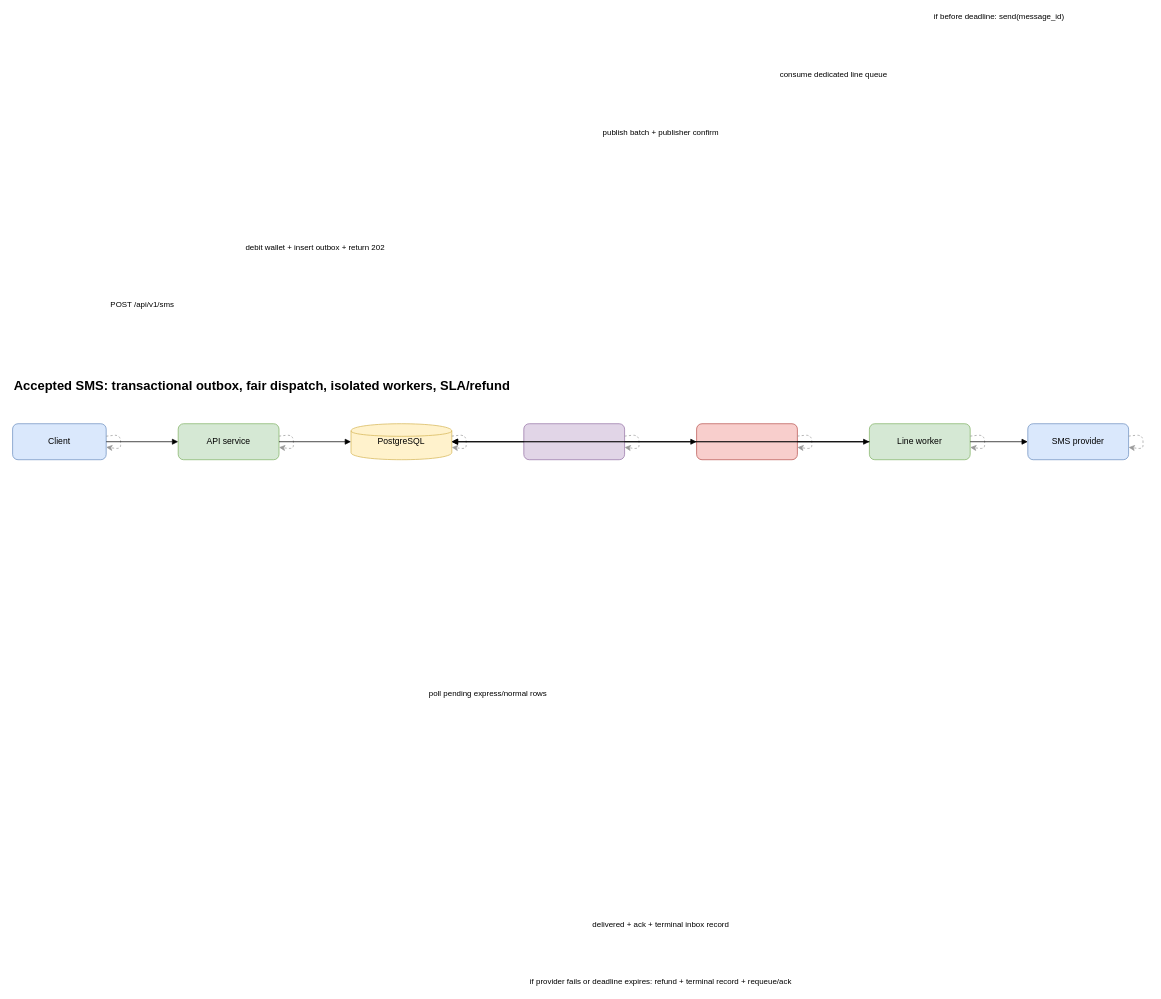
Image size: 1161x999. Some labels were removed from this diagram. Here are the shapes that lost their labels. From the top down, the centre of each, then its label:
At (x=574, y=441): "Dispatcher".
At (x=746, y=441): "RabbitMQ".
